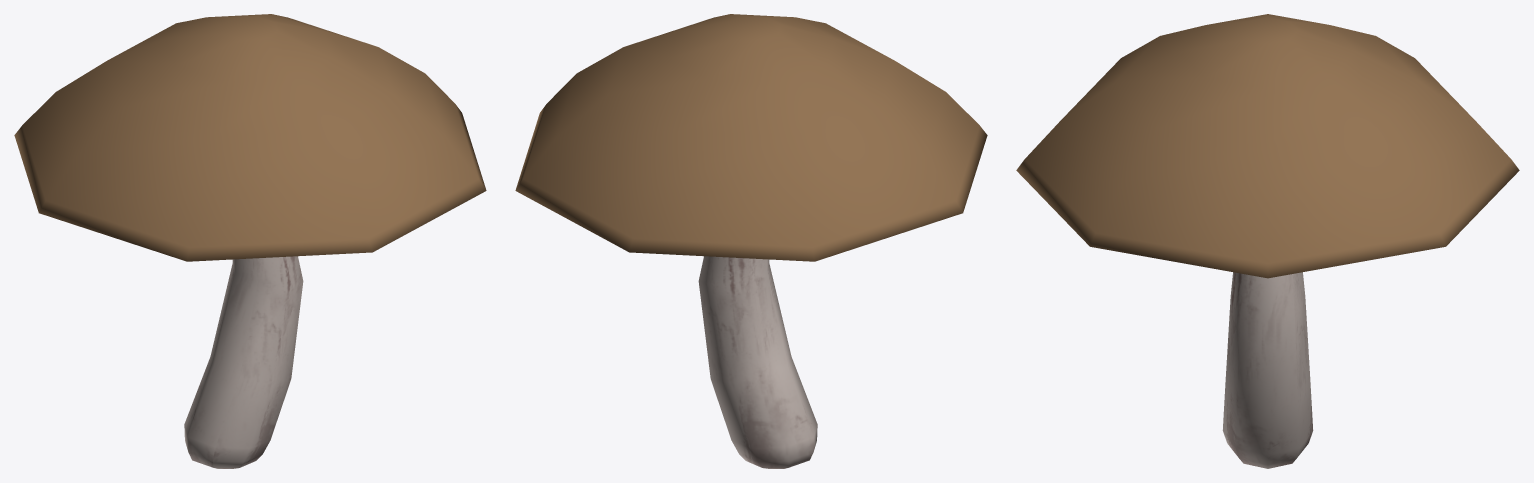
Rendered from Mushroom_large_2.fbx.
3 renders of one model, left to right at view 1: azimuth 30°, elevation 25°; view 2: azimuth 150°, elevation 25°; view 3: azimuth 270°, elevation 25°, orthographic. The views are drawn at different scales.
Parts seen in each view (by area): view 1: Mushroom_large_2; view 2: Mushroom_large_2; view 3: Mushroom_large_2.
Part boxes in pixels (left/top/right/bottom): Mushroom_large_2: left=14, top=14, right=486, bottom=468; Mushroom_large_2: left=515, top=14, right=987, bottom=468; Mushroom_large_2: left=1016, top=14, right=1519, bottom=468.
Bounding box in the file's own units: 20.26 × 19.75 × 20.26.
